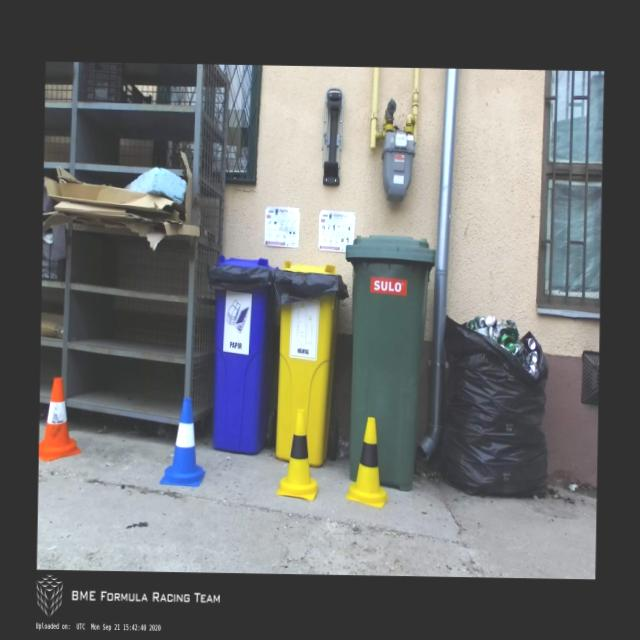blue_cone: (158, 397, 206, 488)
orange_cone: (39, 376, 83, 463)
yellow_cone: (276, 408, 320, 500), (346, 418, 390, 508)
